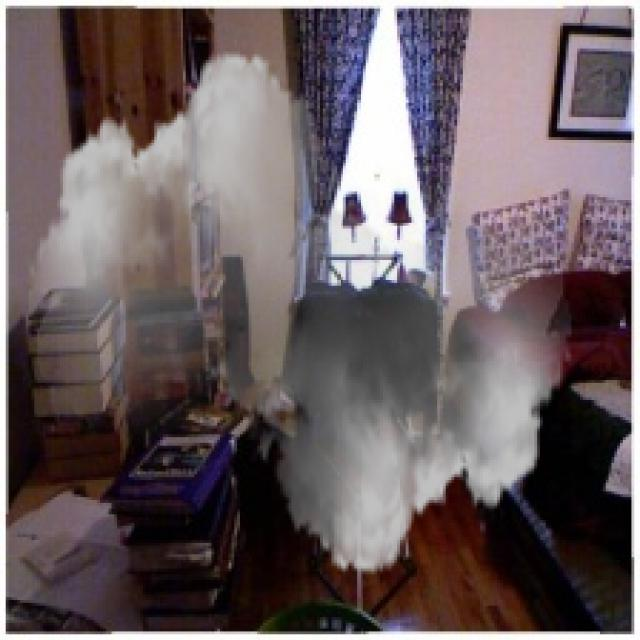smoke: (29, 34, 572, 592)
